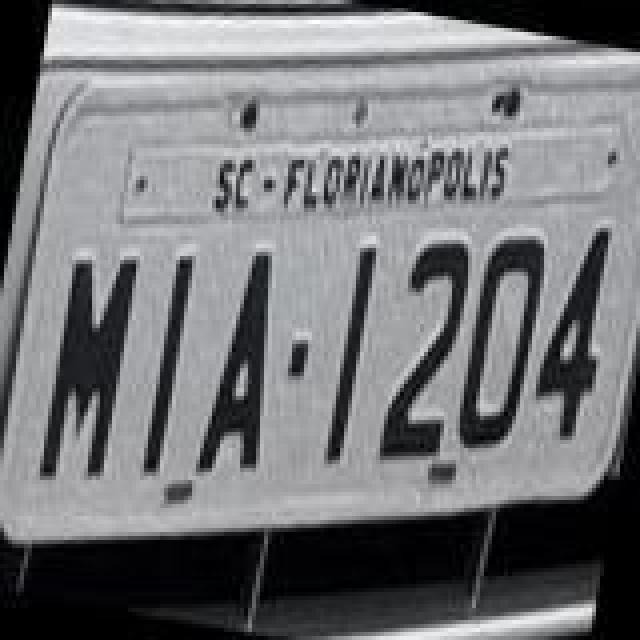1: (136, 252, 200, 484), (322, 240, 382, 472)
2: (372, 232, 476, 472)
4: (528, 214, 624, 442)
A: (192, 248, 296, 488)
M: (32, 244, 144, 492)
O: (448, 226, 552, 462)
